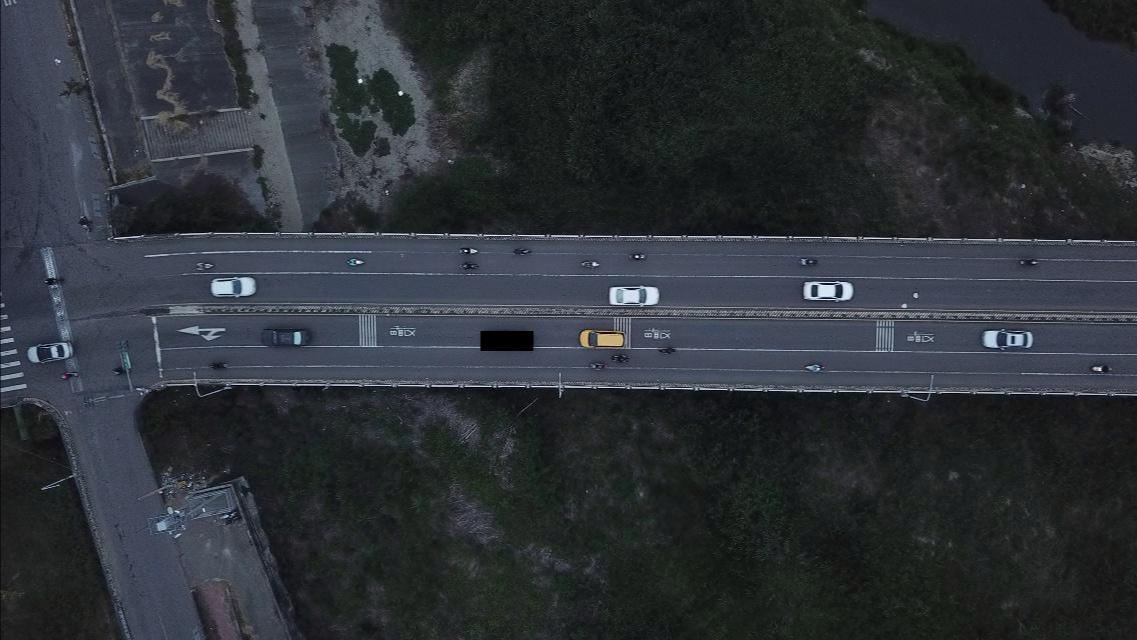vehicle: (978, 327, 1035, 350), (801, 280, 854, 304), (607, 284, 659, 308), (207, 275, 258, 299), (26, 341, 72, 364), (258, 328, 308, 349), (578, 329, 625, 351)
